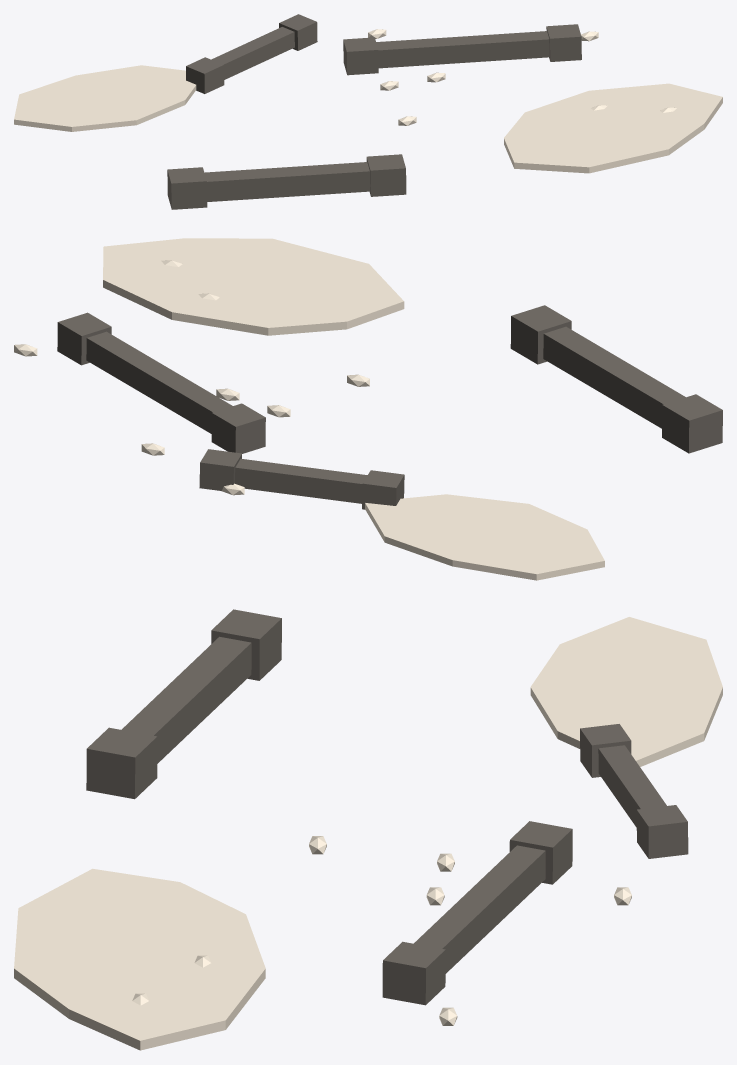
The model's file is SM_VKI_Overlay_Refuse.fbx.
3 views of the same model, one above another, from view 1: azimuth 30°, elevation 25°; view 2: azimuth 150°, elevation 25°; view 3: azimuth 270°, elevation 25° (orthographic). The views are drawn at different scales.
Parts seen in each view (by area): view 1: SM_VKI_Overlay_Refuse.001; view 2: SM_VKI_Overlay_Refuse.001; view 3: SM_VKI_Overlay_Refuse.001.
Part boxes in pixels (x1,y1,x2,y2): SM_VKI_Overlay_Refuse.001: (14,14,722,209); SM_VKI_Overlay_Refuse.001: (14,238,722,580); SM_VKI_Overlay_Refuse.001: (14,609,722,1050).
Bounding box in the file's own units: 1.03 × 0.0528 × 0.7249.
